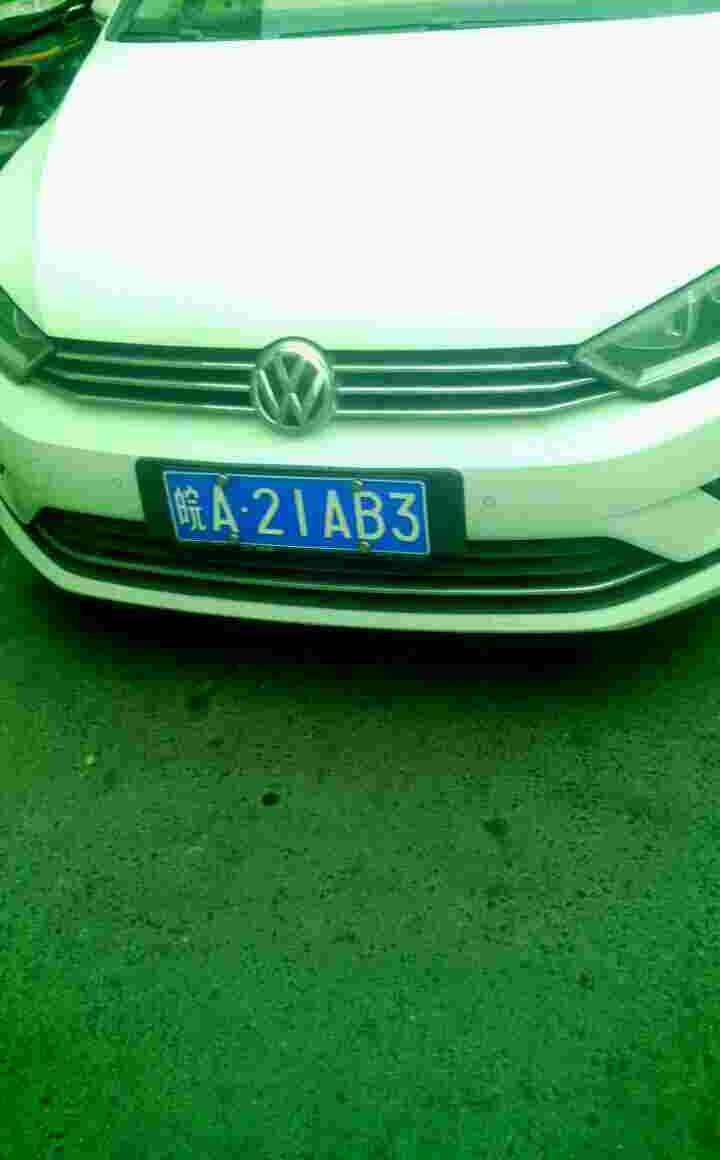license_plate: (169, 468, 441, 559)
